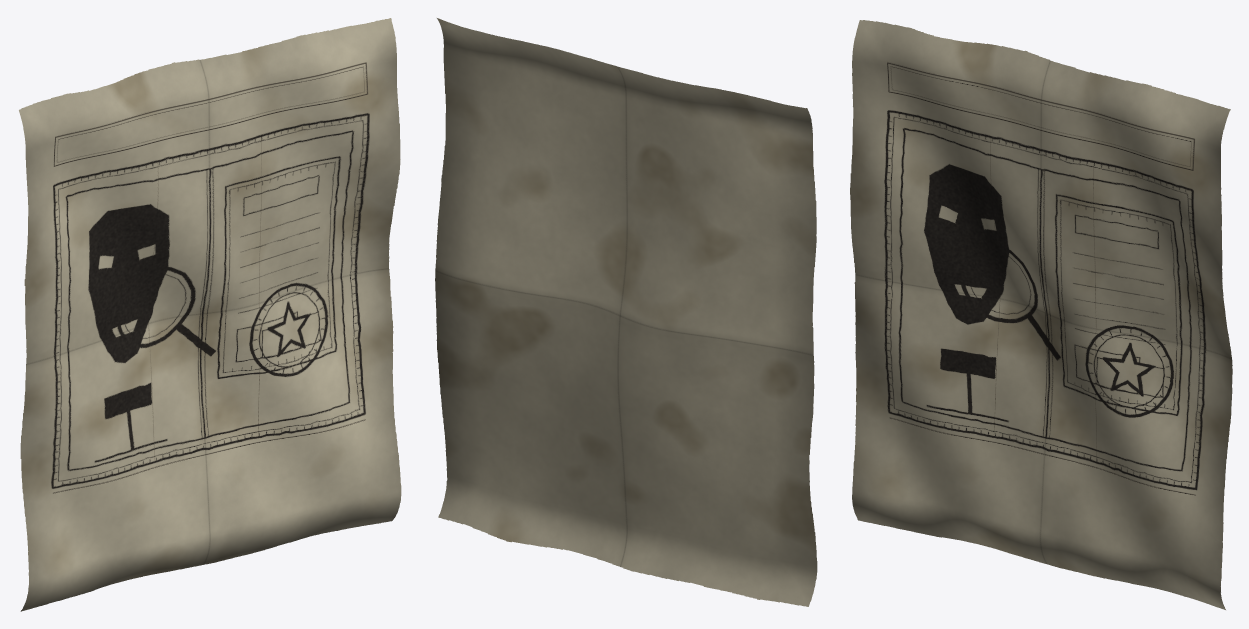
The model's file is periodico_5.glb.
3 views of the same model, side by side, from view 1: azimuth 30°, elevation 25°; view 2: azimuth 150°, elevation 25°; view 3: azimuth 330°, elevation 25° (orthographic).
Visible parts, largest first — view 1: Hoja_frente; view 2: Hoja_reverso; view 3: Hoja_frente.
Boxes of the visible parts, box(x1,y1,x2,y2) form: Hoja_frente: box(19, 18, 401, 611); Hoja_reverso: box(435, 18, 817, 606); Hoja_frente: box(850, 20, 1232, 609).
Size of the model in its own units: 0.304 by 0.392 by 0.0249.
Materials: 2 (2 with a texture image).
